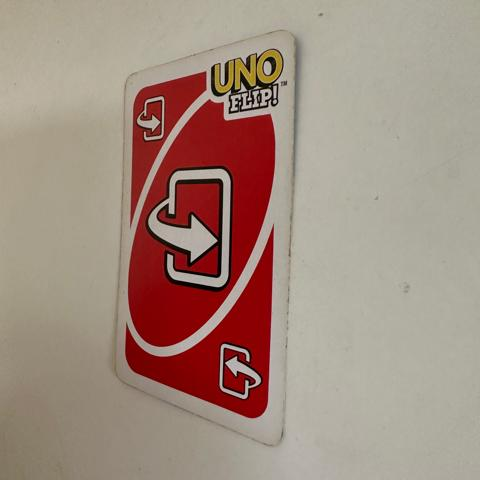lredflip-20: (129, 83, 172, 154)
